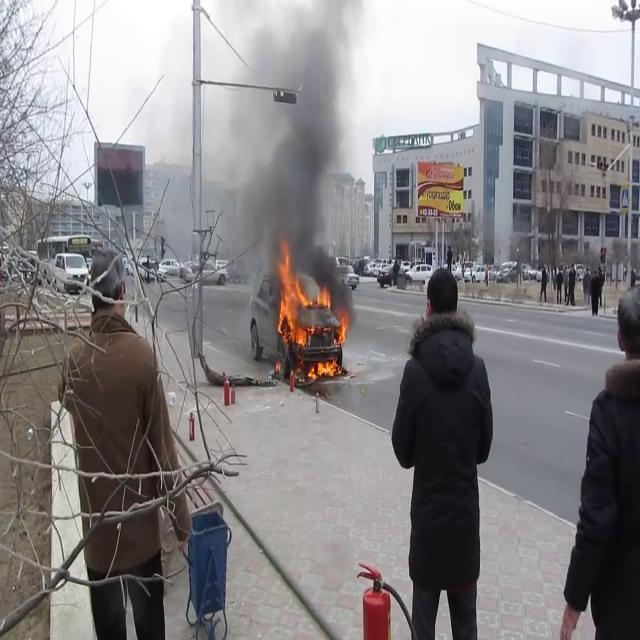Fire: (273, 250, 349, 380)
Smoke: (221, 1, 357, 276)
